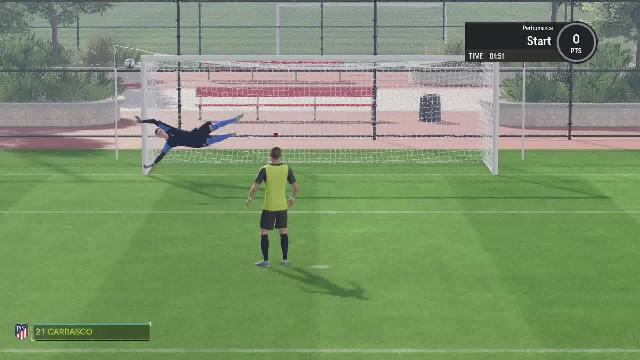football: (122, 56, 140, 70)
goal-bottom-left: (150, 124, 258, 174)
goal-bottom-right: (375, 124, 491, 174)
goal-middle-down: (260, 124, 374, 174)
goal-middle-up: (260, 63, 374, 123)
goal-top-left: (149, 62, 257, 122)
goal-top-right: (376, 64, 492, 122)
goalkeeper: (132, 108, 248, 170)
player: (241, 149, 305, 267)
